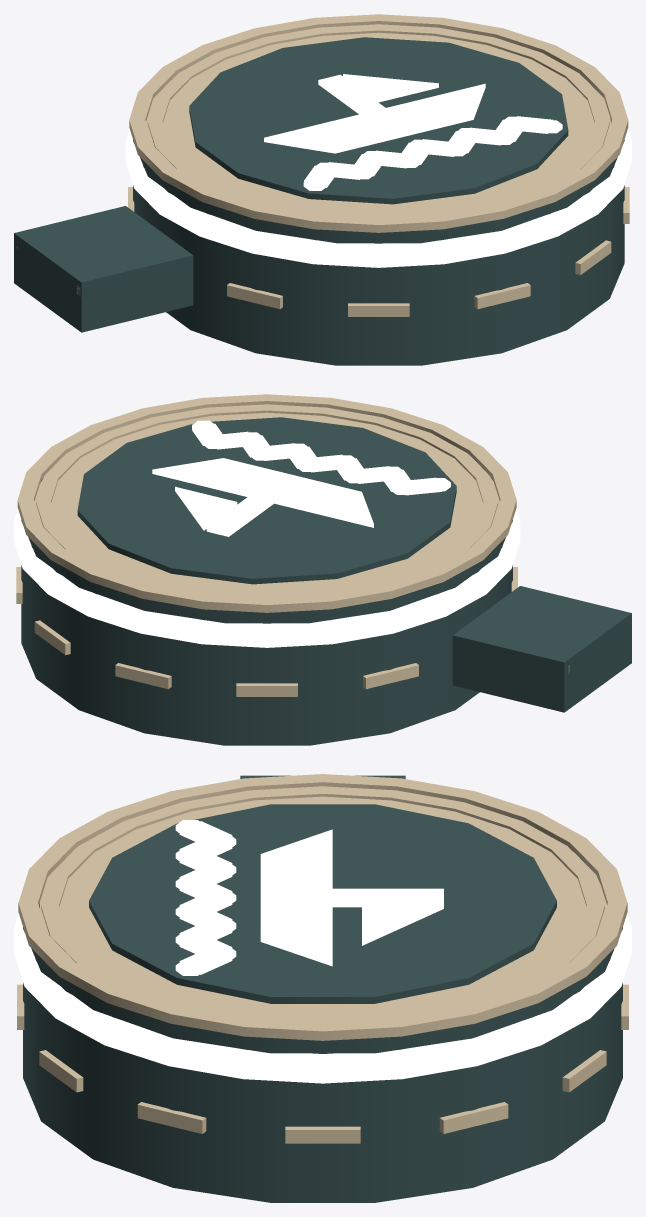
Rendered from Relay_Button_Ferry_v3_lab2.glb.
The picture shows the model from 3 angles, top to bottom: view 1: azimuth 30°, elevation 25°; view 2: azimuth 150°, elevation 25°; view 3: azimuth 270°, elevation 25°; orthographic projection. The views are drawn at different scales.
Visible parts, largest first — view 1: Relay_Button_Ferry_v3, Glyph, Strut; view 2: Relay_Button_Ferry_v3, Glyph, Strut; view 3: Relay_Button_Ferry_v3, Glyph.
Part boxes in pixels (box(x1,y1,x2,y2)): Relay_Button_Ferry_v3: box(125, 14, 631, 365); Glyph: box(189, 37, 568, 204); Strut: box(14, 206, 193, 332); Relay_Button_Ferry_v3: box(14, 394, 520, 745); Glyph: box(77, 417, 456, 584); Strut: box(452, 586, 631, 712); Relay_Button_Ferry_v3: box(14, 774, 631, 1202); Glyph: box(89, 804, 556, 1003).
Bounding box in the file's own units: 5.17 × 2.05 × 4.12.
